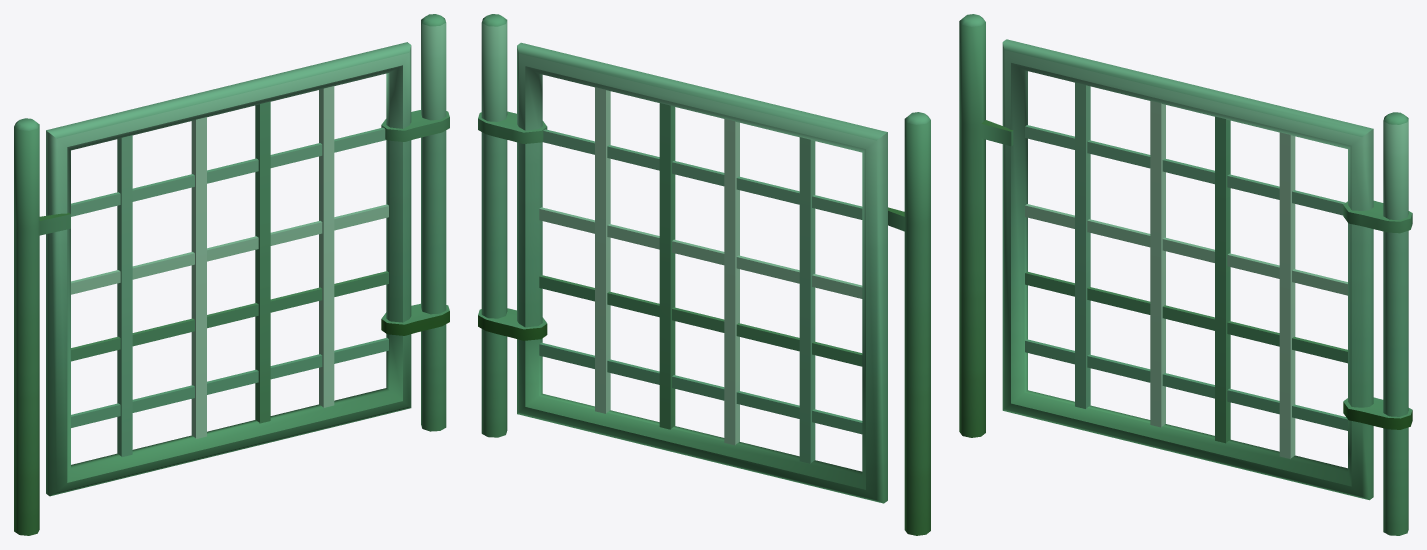
File: SM_Gate_01.fbx
The picture shows the model from 3 angles, left to right: view 1: azimuth 30°, elevation 25°; view 2: azimuth 150°, elevation 25°; view 3: azimuth 330°, elevation 25°; orthographic projection.
Parts seen in each view (by area): view 1: SM_Gate_01; view 2: SM_Gate_01; view 3: SM_Gate_01.
Part boxes in pixels (bbox=[...]): SM_Gate_01: bbox=[14, 14, 449, 535]; SM_Gate_01: bbox=[478, 14, 930, 535]; SM_Gate_01: bbox=[959, 14, 1412, 535].
Size of the model in its own units: 1.01 by 0.9056 by 0.0819.
